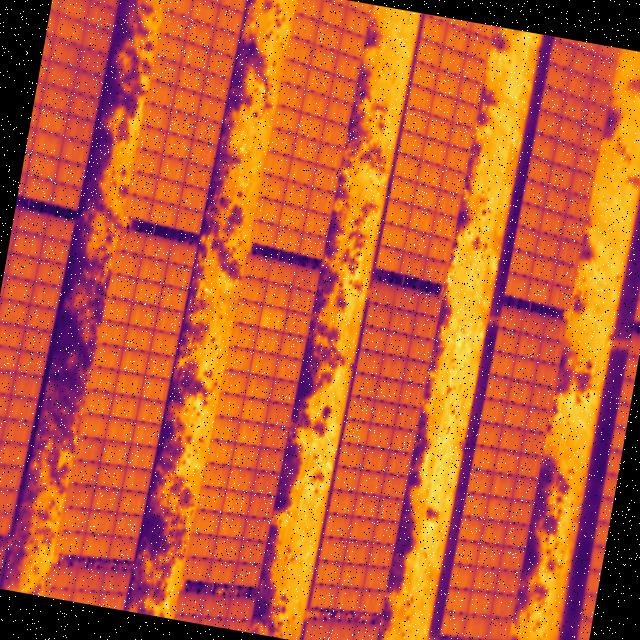Hotspot: (258, 305, 286, 331)
